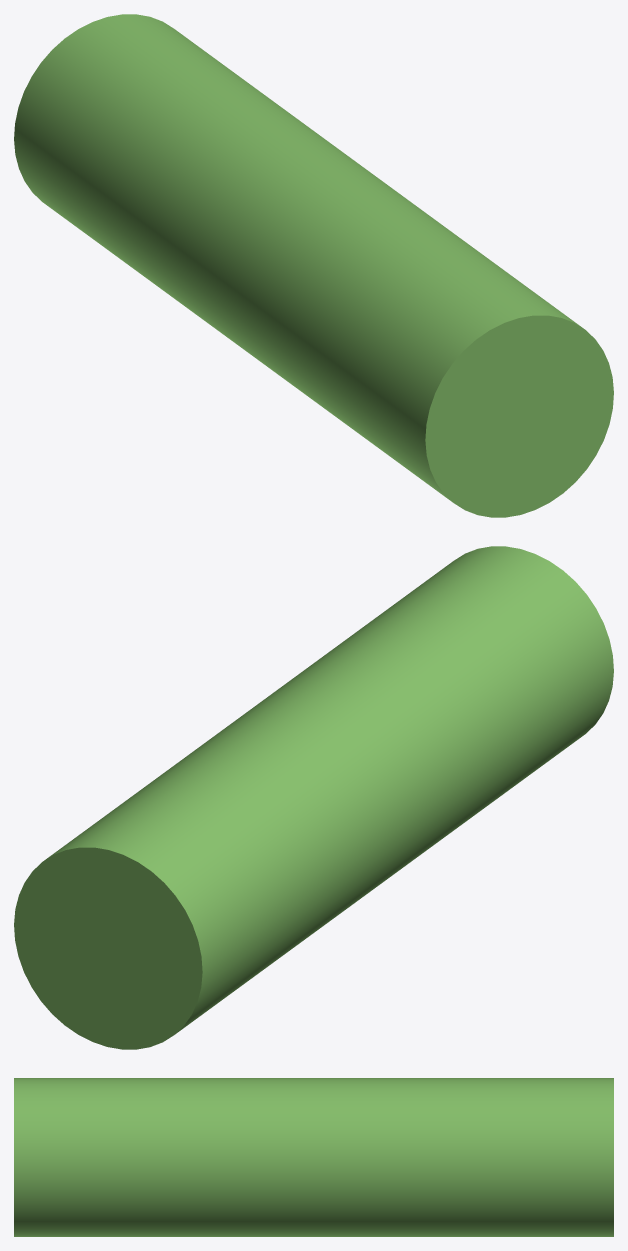
Rendered from body48_visual.obj.
3 views of the same model, one above another, from view 1: azimuth 30°, elevation 25°; view 2: azimuth 150°, elevation 25°; view 3: azimuth 270°, elevation 25° (orthographic). The views are drawn at different scales.
Parts seen in each view (by area): view 1: Body48; view 2: Body48; view 3: Body48.
Part boxes in pixels (box(x1,y1,x2,y2)): Body48: box(14, 14, 613, 517); Body48: box(14, 546, 613, 1049); Body48: box(14, 1078, 613, 1236).
Size of the model in its own units: 1.8 by 1.8 by 6.8.
